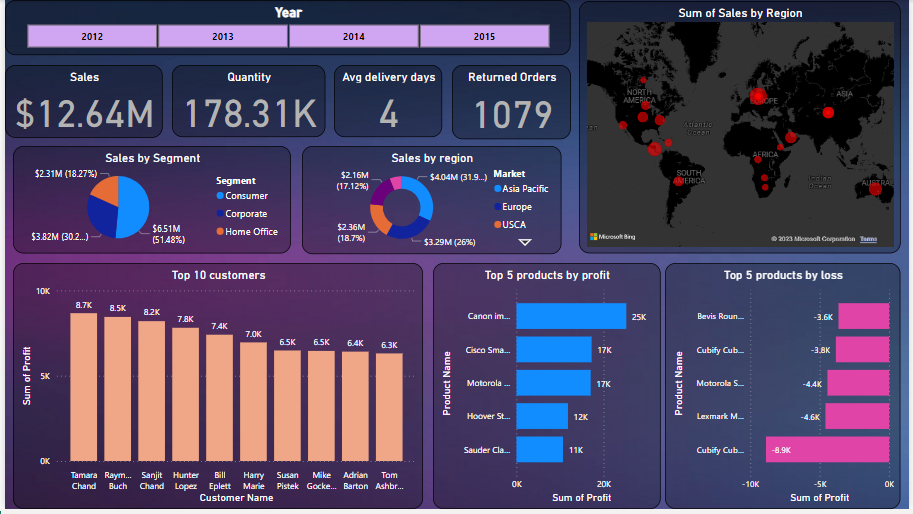

The page's visual inventory and layout, read from the dashboard file:
{"tool":"powerbi","page":{"name":"Page 1","canvas":[1280,720],"ordinal":0},"visuals":[{"type":"card","title":"Sales","fields":{"Values":["Orders.Sales"]},"box":[0,91.7,223.3,103.3],"z":0},{"type":"card","title":"Quantity","fields":{"Values":["Orders.Quantity"]},"box":[236.7,91.7,216.7,101.7],"z":1000},{"type":"card","title":"Avg delivery days","fields":{"Values":["Orders.Delivery Days"]},"box":[465,91.7,153.3,101.7],"z":2000},{"type":"slicer","title":"Year","fields":{"Values":["Orders.Year"]},"box":[0,0,800,78.3],"z":3000},{"type":"card","title":"Returned Orders","fields":{"Values":["Returns.Return orders"]},"box":[631.7,91.7,168.3,105],"z":4000},{"type":"map","fields":{"Category":["Orders.Region","Orders.Country"],"Size":["Orders.Sales"]},"box":[811.7,1.7,455,356.7],"z":5000},{"type":"barChart","title":"Top 5 products by profit","fields":{"Category":["Orders.Product Name"],"Y":["Orders.Profit"]},"box":[605,371.7,321.7,348.3],"z":6000},{"type":"barChart","title":"Top 5 products by loss","fields":{"Category":["Orders.Product Name"],"Y":["Orders.Profit"]},"box":[933.3,371.7,333.3,348.3],"z":7000},{"type":"pieChart","title":"Sales by Segment","fields":{"Category":["Orders.Segment"],"Y":["Orders.Sales"]},"box":[11.7,206.7,393.3,151.7],"z":8000},{"type":"donutChart","title":"Sales by region","fields":{"Category":["Orders.Market","Orders.Segment"],"Y":["Orders.Sales"]},"box":[420,206.7,366.7,153.3],"z":9000},{"type":"columnChart","title":"Top 10 customers","fields":{"Category":["Orders.Customer Name"],"Y":["Orders.Profit"]},"box":[11.7,371.7,580,348.3],"z":10000}]}

Visuals, with their boxes in screenshot pixels (x1, y1, x2, y2), scaled from the page's 1280x720 canvas onto the 913x514 screenshot:
"Sales" card: <bbox>0, 65, 159, 139</bbox>
"Quantity" card: <bbox>169, 65, 323, 138</bbox>
"Avg delivery days" card: <bbox>332, 65, 441, 138</bbox>
"Year" slicer: <bbox>0, 0, 571, 56</bbox>
"Returned Orders" card: <bbox>451, 65, 571, 140</bbox>
map - Orders.Region x Orders.Country: <bbox>579, 1, 904, 256</bbox>
"Top 5 products by profit" barChart: <bbox>432, 265, 661, 513</bbox>
"Top 5 products by loss" barChart: <bbox>666, 265, 903, 513</bbox>
"Sales by Segment" pieChart: <bbox>8, 148, 289, 256</bbox>
"Sales by region" donutChart: <bbox>300, 148, 561, 257</bbox>
"Top 10 customers" columnChart: <bbox>8, 265, 422, 513</bbox>
